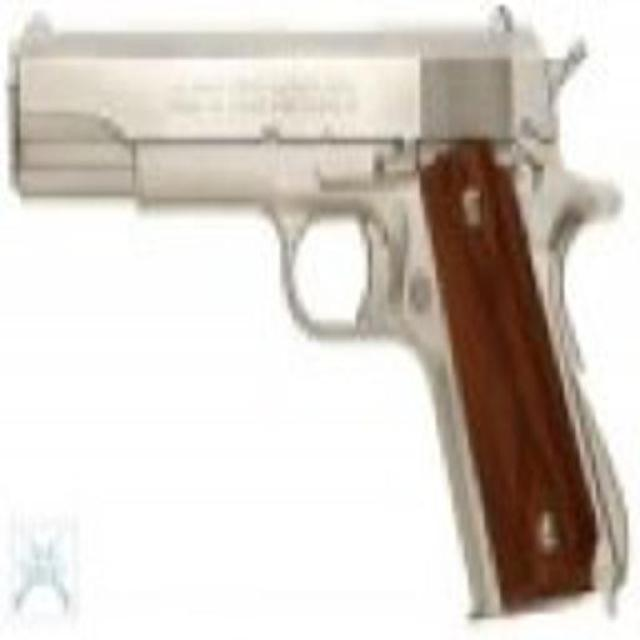pistol: (7, 15, 627, 617)
